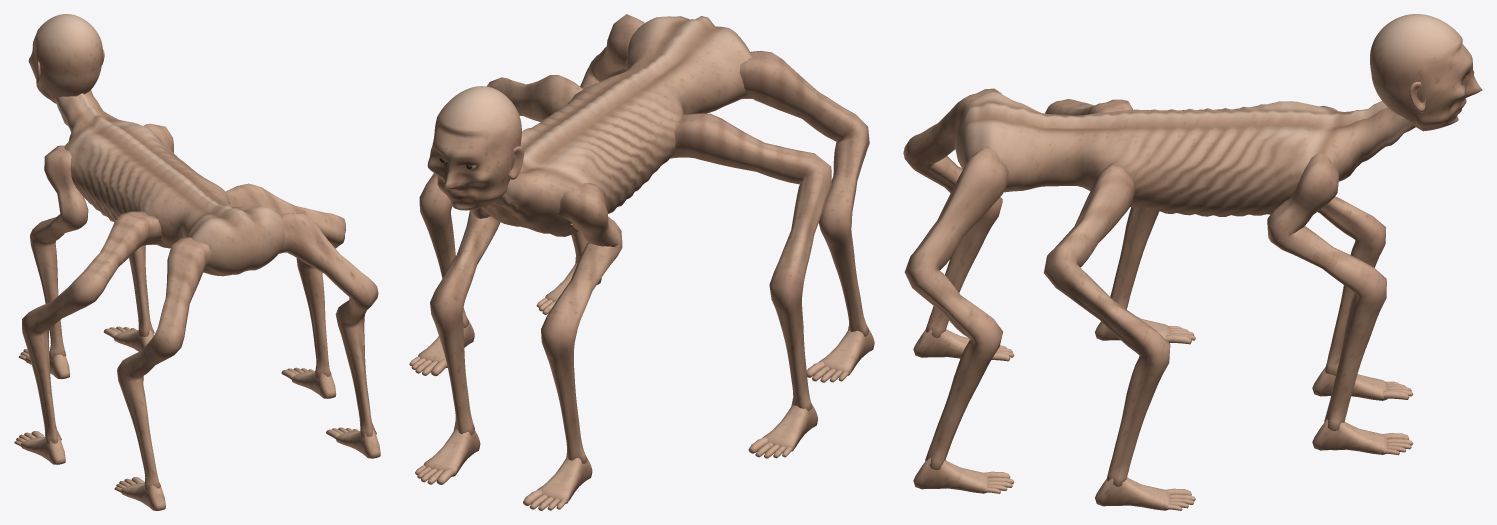
3 renders of one model, left to right at view 1: azimuth 30°, elevation 25°; view 2: azimuth 150°, elevation 25°; view 3: azimuth 270°, elevation 25°, orthographic. The views are drawn at different scales.
Bounding box in the file's own units: 1.5 × 1.55 × 2.01.
1 material, 1 textured.
